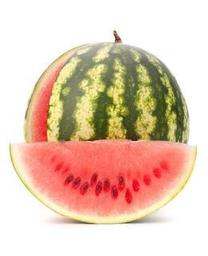watermelon: (13, 42, 199, 224)
